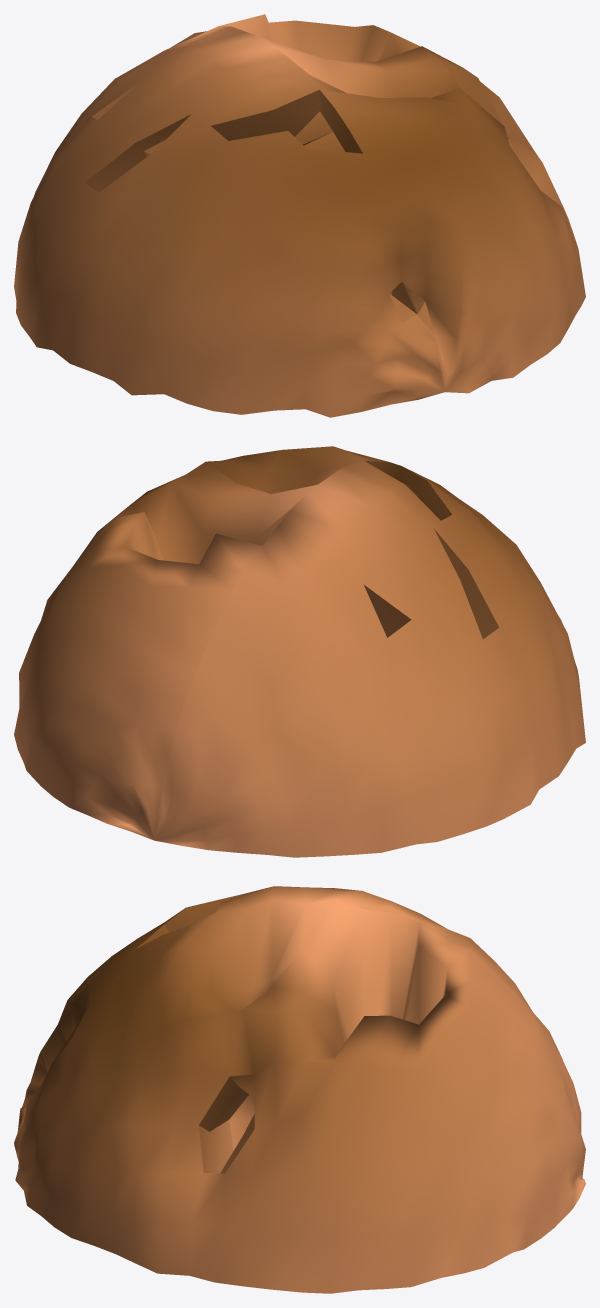
Rendered from earth_core_env.fbx.
3 views of the same model, one above another, from view 1: azimuth 30°, elevation 25°; view 2: azimuth 150°, elevation 25°; view 3: azimuth 270°, elevation 25° (orthographic).
Visible parts, largest first — view 1: crust; view 2: crust; view 3: crust.
Part boxes in pixels (x1,y1,x2,y2): crust: (14, 14, 585, 417); crust: (14, 446, 585, 857); crust: (14, 886, 585, 1293).
Bounding box in the file's own units: 989 × 507 × 989.
1 material, 1 textured.
